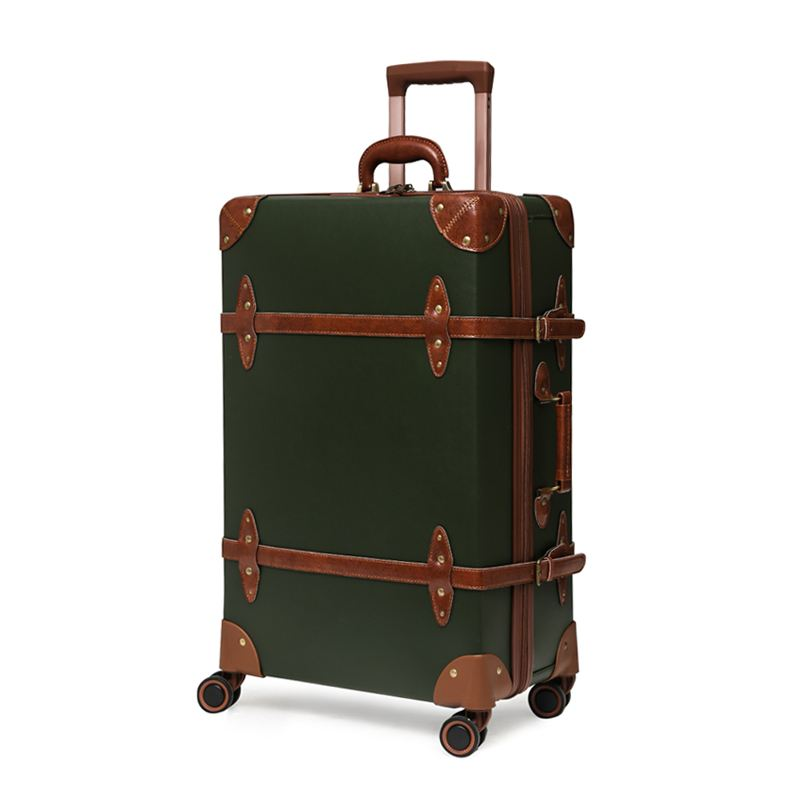box: (219, 191, 574, 707)
handle: (534, 360, 574, 528), (357, 134, 452, 192)
wheel: (439, 710, 490, 758), (196, 671, 242, 714), (528, 682, 571, 719)
